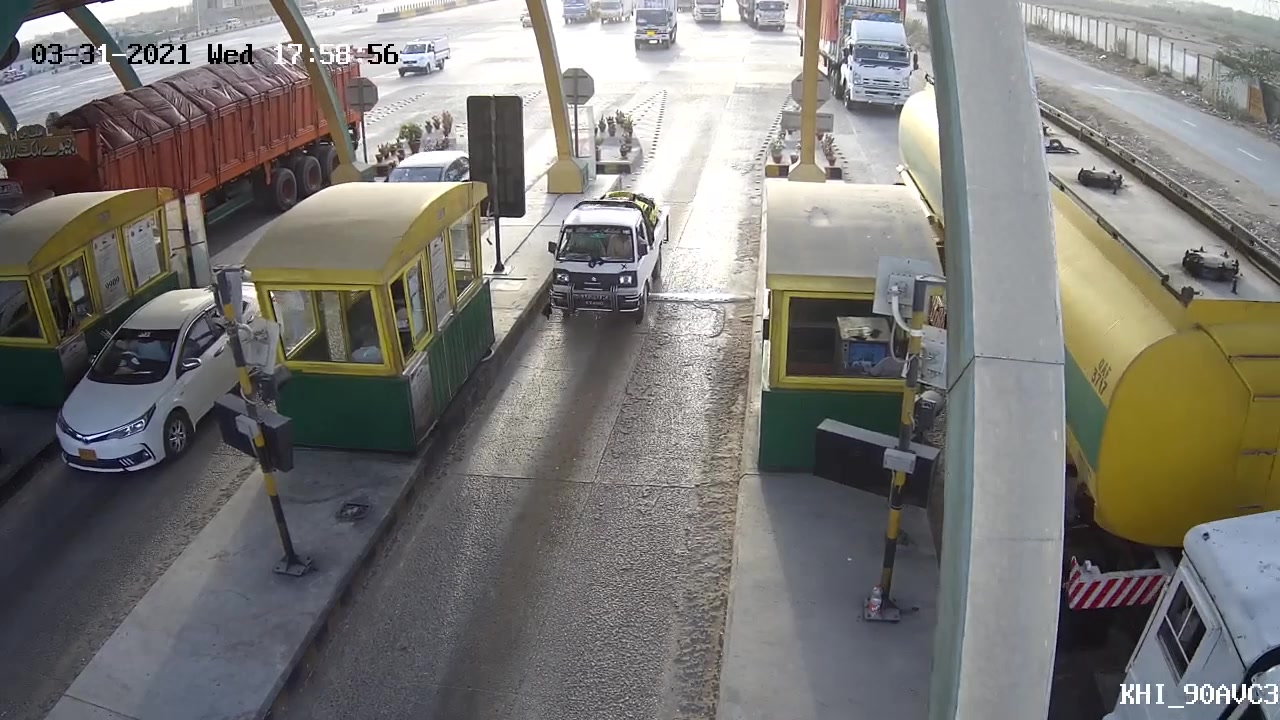F2: (521, 190, 705, 331)
